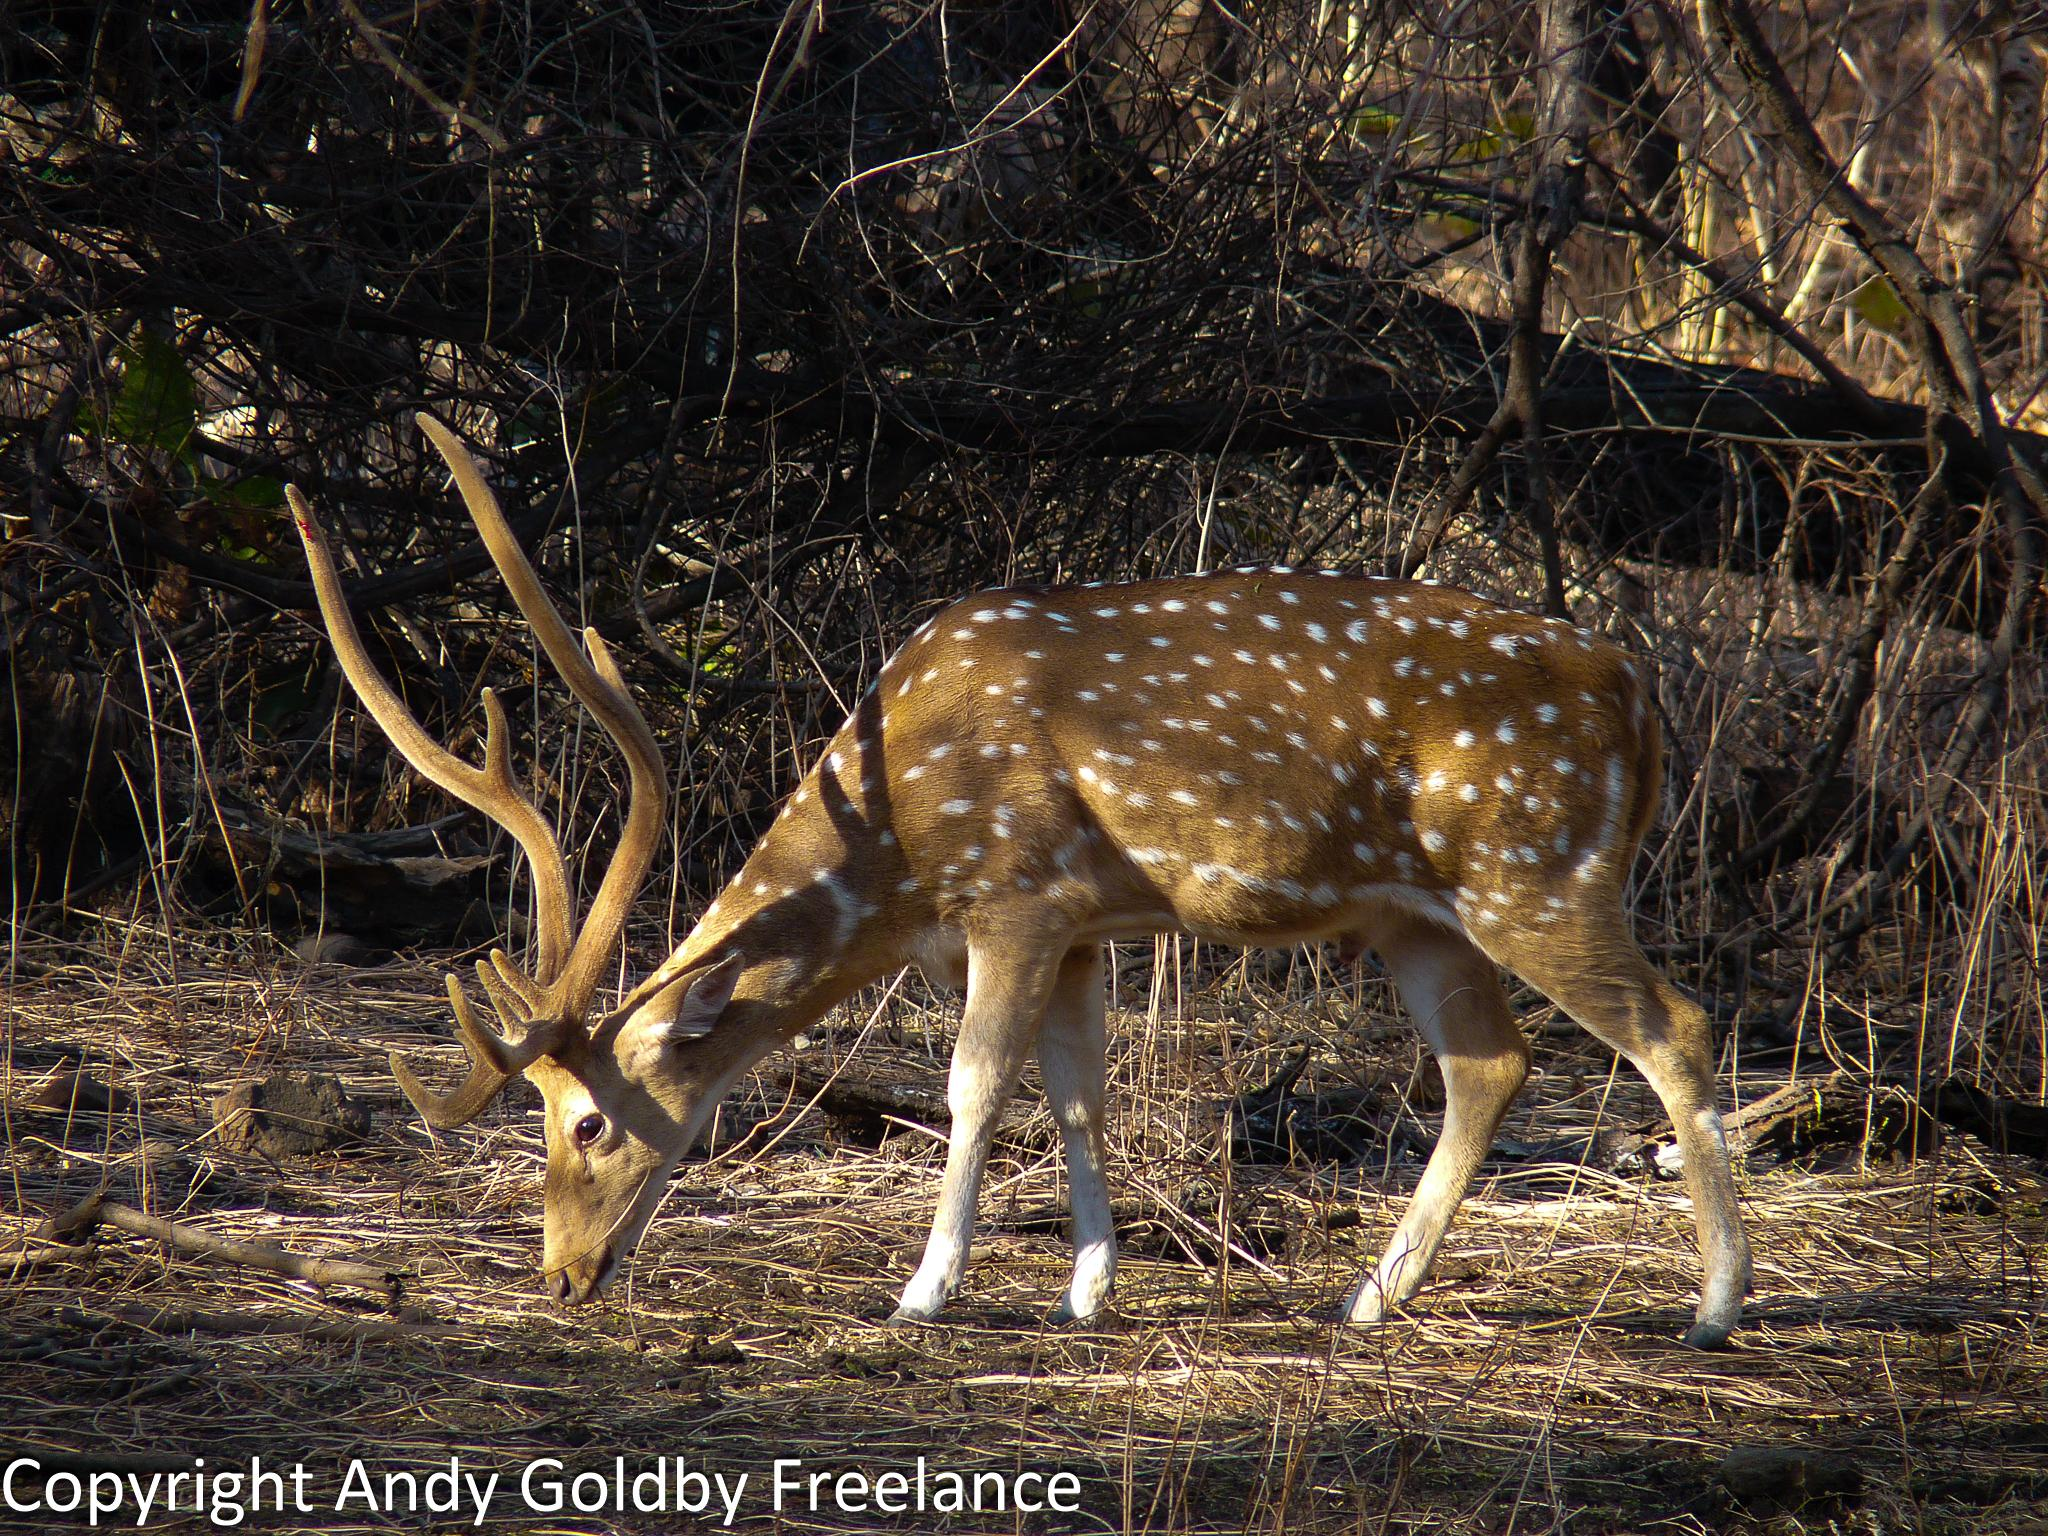Deer: (285, 416, 1750, 1346)
